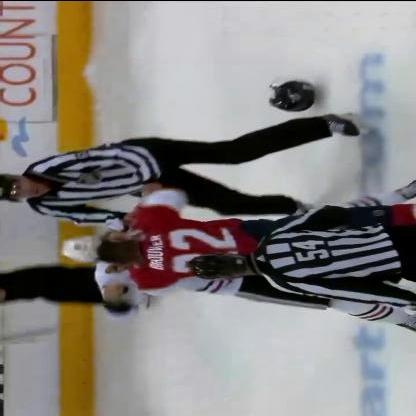voilence: (63, 188, 311, 318)
